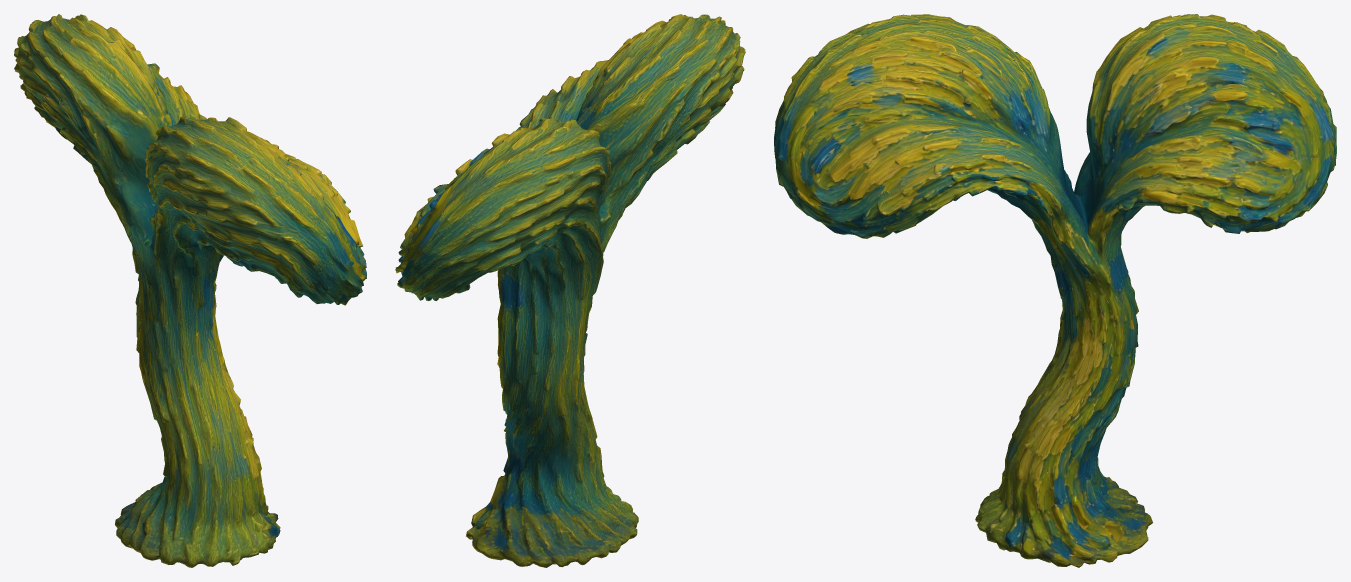
File: abstract+tree+sculpture+3d+1k.glb
3 renders of one model, left to right at view 1: azimuth 30°, elevation 25°; view 2: azimuth 150°, elevation 25°; view 3: azimuth 270°, elevation 25°, orthographic. The views are drawn at different scales.
Parts seen in each view (by area): view 1: tripo_node_b4e22a84-f788-406f-afcf-641c09fa516b; view 2: tripo_node_b4e22a84-f788-406f-afcf-641c09fa516b; view 3: tripo_node_b4e22a84-f788-406f-afcf-641c09fa516b.
Boxes of the visible parts, box(x1,y1,x2,y2) form: tripo_node_b4e22a84-f788-406f-afcf-641c09fa516b: box(14, 14, 366, 567); tripo_node_b4e22a84-f788-406f-afcf-641c09fa516b: box(395, 14, 745, 567); tripo_node_b4e22a84-f788-406f-afcf-641c09fa516b: box(774, 14, 1336, 567).
Bounding box in the file's own units: 0.3627 × 0.9531 × 1.
1 material, 1 textured.
